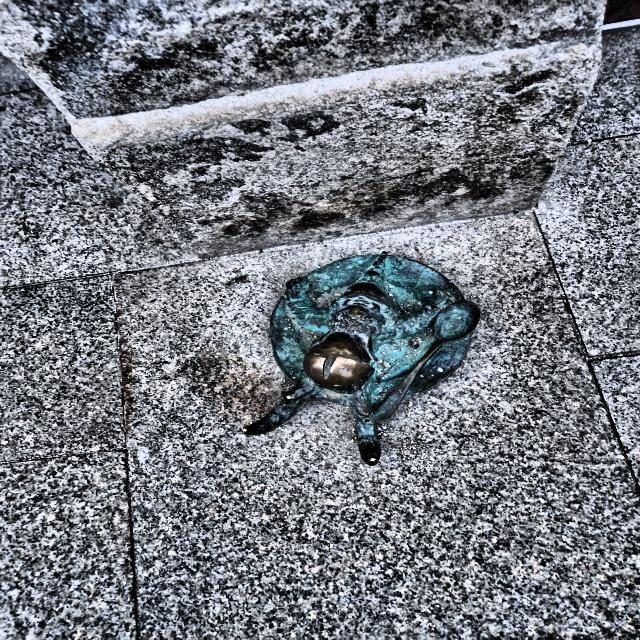Obiezysmak: (242, 253, 481, 467)
